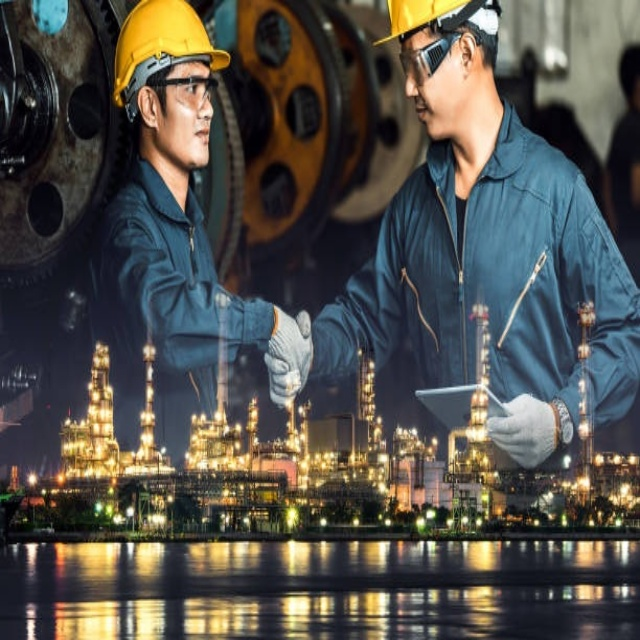Gafas: (399, 31, 469, 84), (152, 75, 218, 108)
Guantes: (487, 391, 564, 470), (265, 305, 313, 407)
Sin_mascara: (411, 96, 440, 138), (185, 119, 211, 162)
